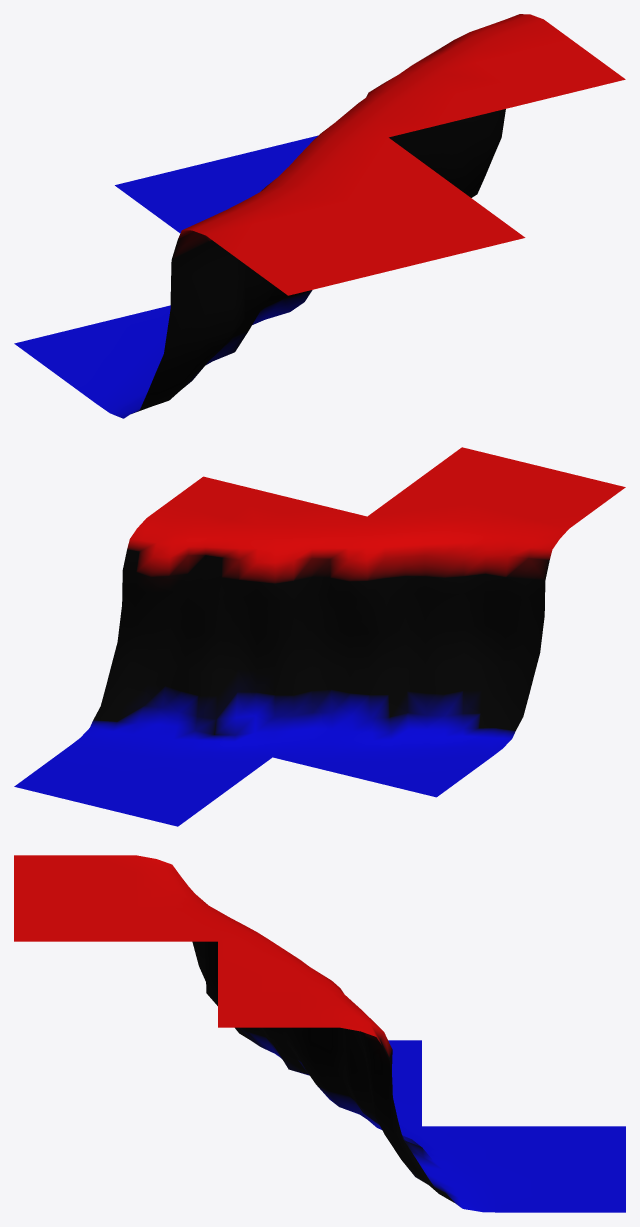
File: RiveCliff03A Foreground.fbx
3 renders of one model, top to bottom at view 1: azimuth 30°, elevation 25°; view 2: azimuth 150°, elevation 25°; view 3: azimuth 270°, elevation 25°, orthographic. The views are drawn at different scales.
Visible parts, largest first — view 1: RiveCliff03A Foreground; view 2: RiveCliff03A Foreground; view 3: RiveCliff03A Foreground.
Part boxes in pixels (<box>): RiveCliff03A Foreground: <box>14,14,625,418</box>; RiveCliff03A Foreground: <box>14,447,625,826</box>; RiveCliff03A Foreground: <box>14,855,625,1212</box>.
Size of the model in its own units: 2 by 1 by 3.
